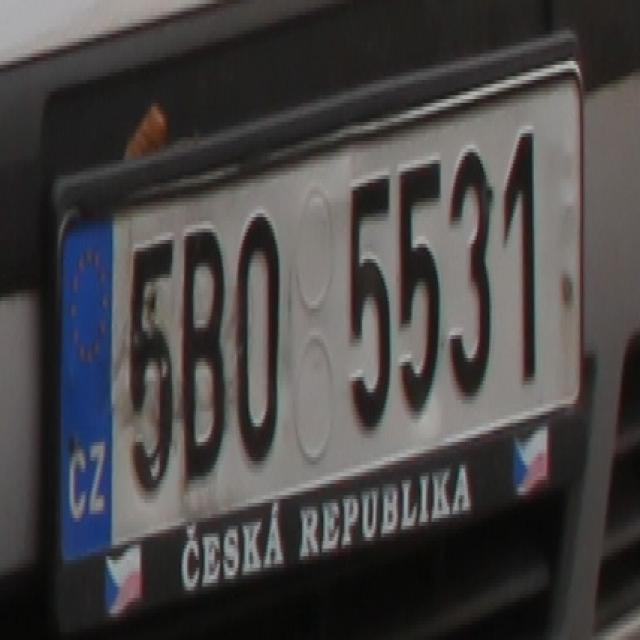0: (233, 210, 280, 464)
1: (502, 130, 542, 384)
3: (446, 144, 494, 392)
5: (127, 239, 177, 492), (393, 148, 440, 408), (346, 172, 394, 426)
B: (180, 221, 224, 480)
